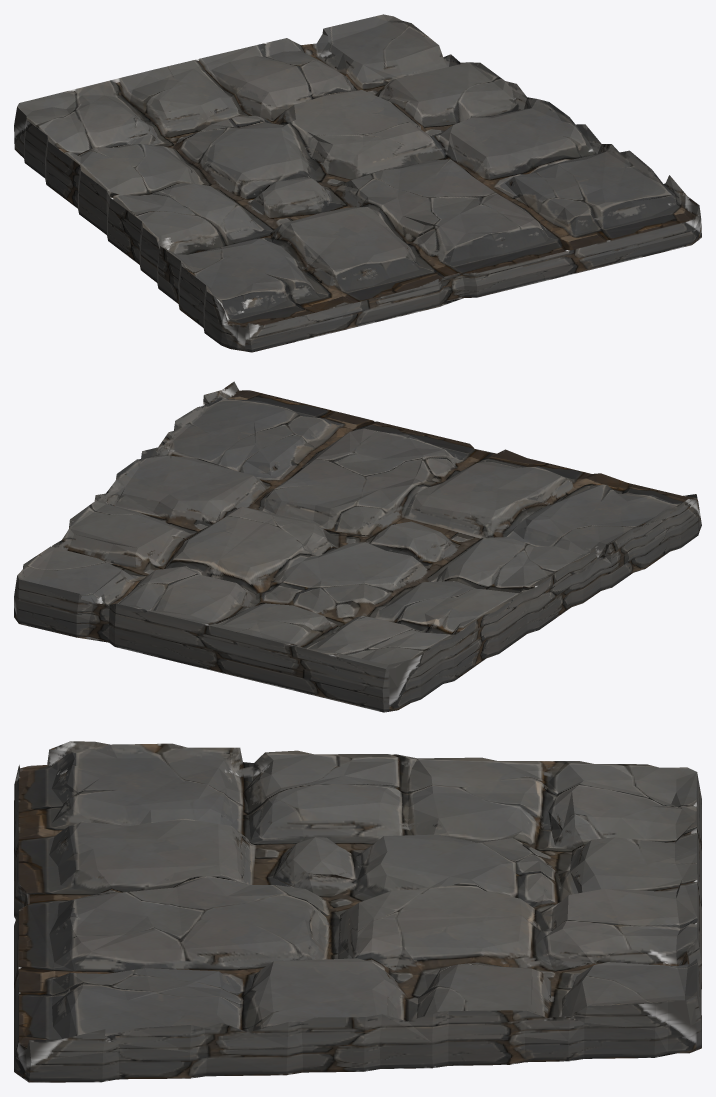
Rendered from SM_Dungeon_Floor_A_LOD0.fbx.
3 views of the same model, one above another, from view 1: azimuth 30°, elevation 25°; view 2: azimuth 150°, elevation 25°; view 3: azimuth 270°, elevation 25° (orthographic). The views are drawn at different scales.
Parts seen in each view (by area): view 1: SM_Dungeon_Floor_A_LOD0; view 2: SM_Dungeon_Floor_A_LOD0; view 3: SM_Dungeon_Floor_A_LOD0.
Part boxes in pixels (<box>): SM_Dungeon_Floor_A_LOD0: <box>14,14,701,352</box>; SM_Dungeon_Floor_A_LOD0: <box>14,381,701,712</box>; SM_Dungeon_Floor_A_LOD0: <box>14,741,701,1082</box>.
Size of the model in its own units: 4 by 0.3527 by 4.
